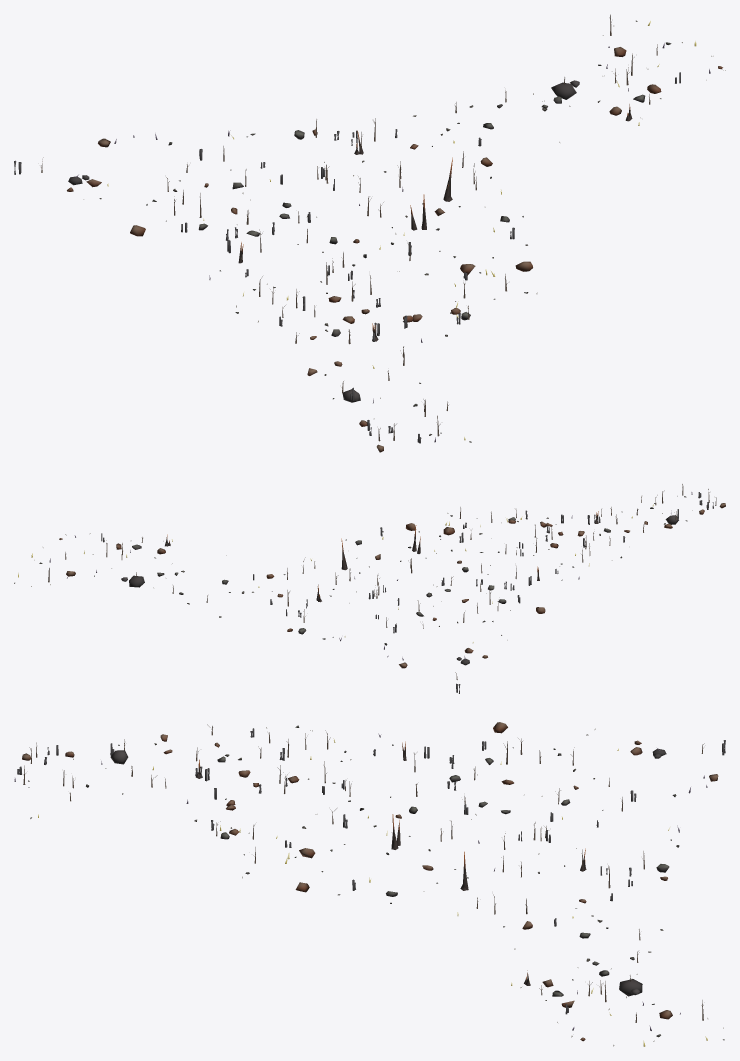
File: ash_land_scatter_c15_29_lod1.glb
The picture shows the model from 3 angles, top to bottom: view 1: azimuth 30°, elevation 25°; view 2: azimuth 150°, elevation 25°; view 3: azimuth 270°, elevation 25°; orthographic projection. The views are drawn at different scales.
Parts seen in each view (by area): view 1: ash_land_scatter_c15_29_lod1; view 2: ash_land_scatter_c15_29_lod1; view 3: ash_land_scatter_c15_29_lod1.
Boxes of the visible parts, x1,y1,x2,y2 form: ash_land_scatter_c15_29_lod1: [14, 14, 725, 452]; ash_land_scatter_c15_29_lod1: [14, 484, 725, 693]; ash_land_scatter_c15_29_lod1: [14, 722, 725, 1046].
Bounding box in the file's own units: 255 × 28.27 × 256.
